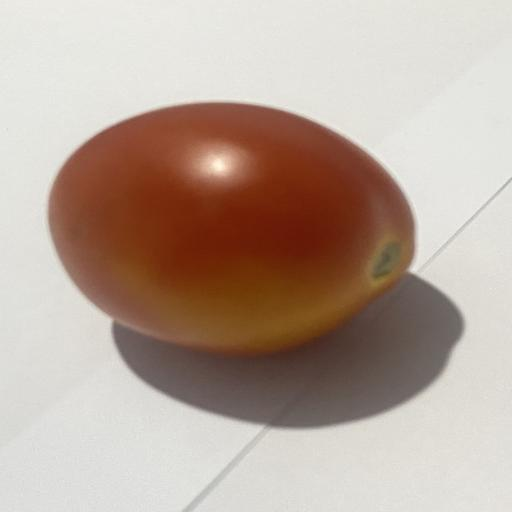ripe: (49, 103, 414, 354)
